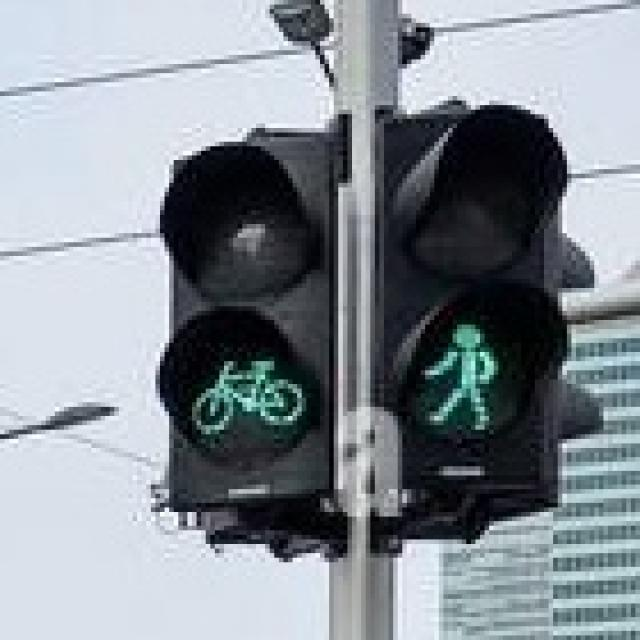geen-crossing: (414, 308, 508, 442)
